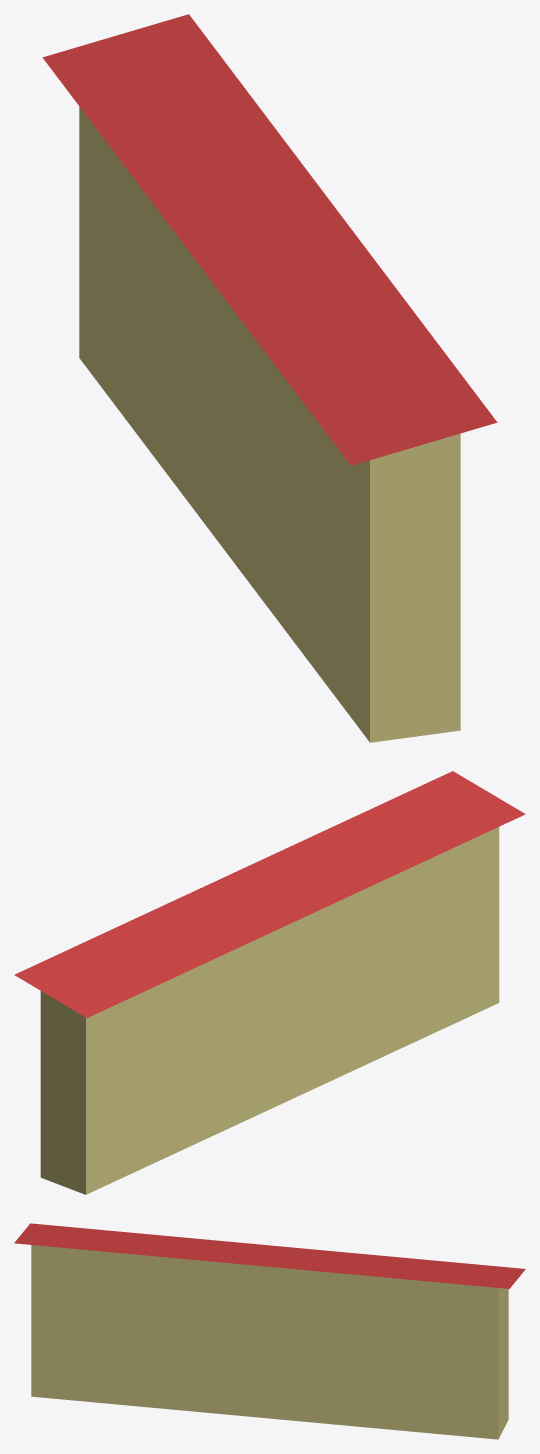
The picture shows the model from 3 angles, top to bottom: view 1: azimuth 30°, elevation 25°; view 2: azimuth 150°, elevation 25°; view 3: azimuth 270°, elevation 25°; orthographic projection. The views are drawn at different scales.
Size of the model in its own units: 6.23 by 17.43 by 5.94.
